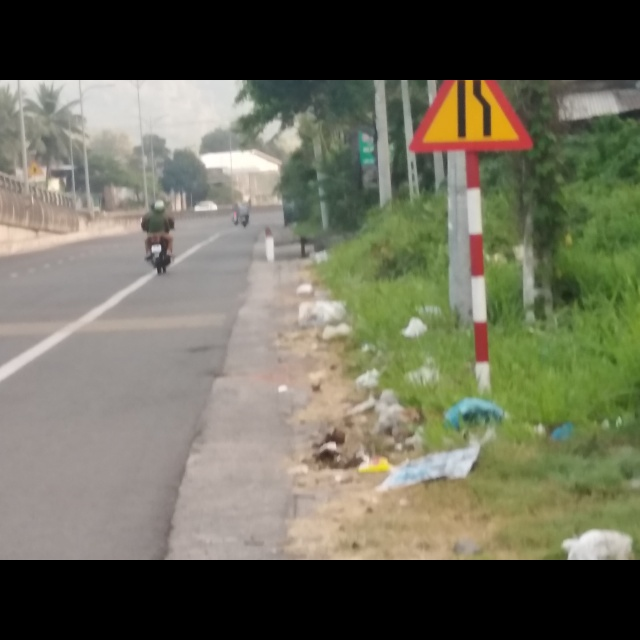Đường bị hẹp bên phải: (409, 79, 534, 153)
